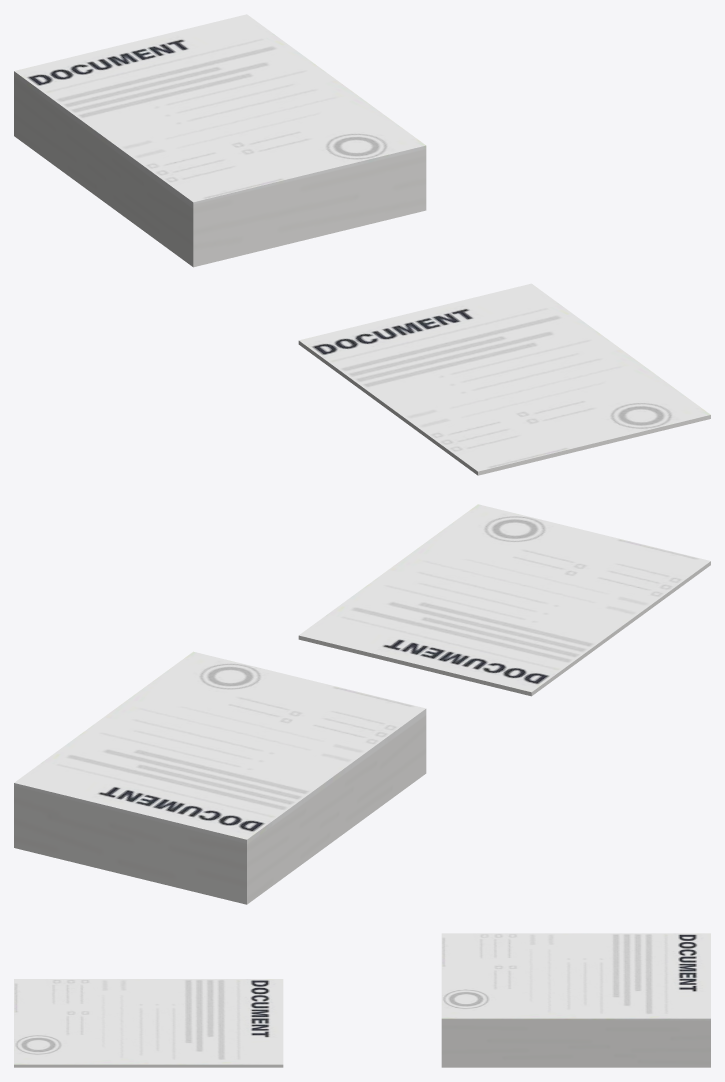
File: Document.fbx
3 renders of one model, top to bottom at view 1: azimuth 30°, elevation 25°; view 2: azimuth 150°, elevation 25°; view 3: azimuth 270°, elevation 25°, orthographic. The views are drawn at different scales.
Visible parts, largest first — view 1: Document1, Document2; view 2: Document1, Document2; view 3: Document1, Document2.
Part boxes in pixels (x1,y1,x2,y2): Document1: (14,14,426,267); Document2: (298,283,710,475); Document1: (14,651,426,904); Document2: (298,504,710,696); Document1: (441,933,710,1067); Document2: (14,979,283,1067).
Size of the model in its own units: 7.5 by 2 by 25.87.
1 material, 1 textured.
